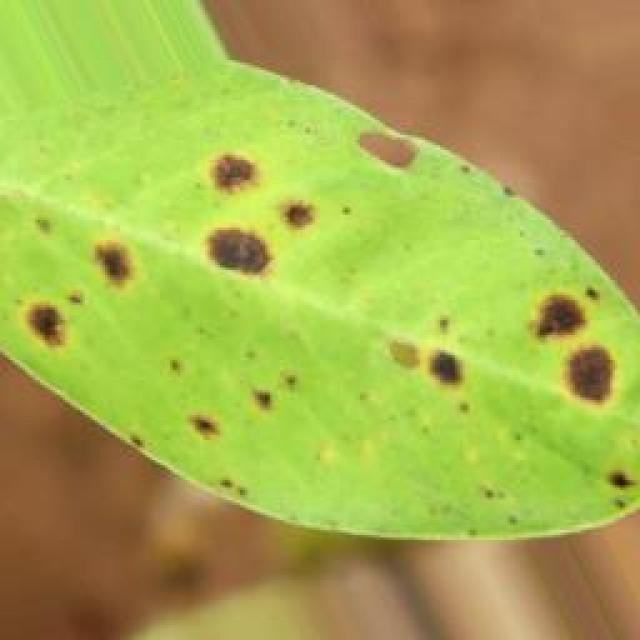Yellowish: (6, 84, 640, 528)
